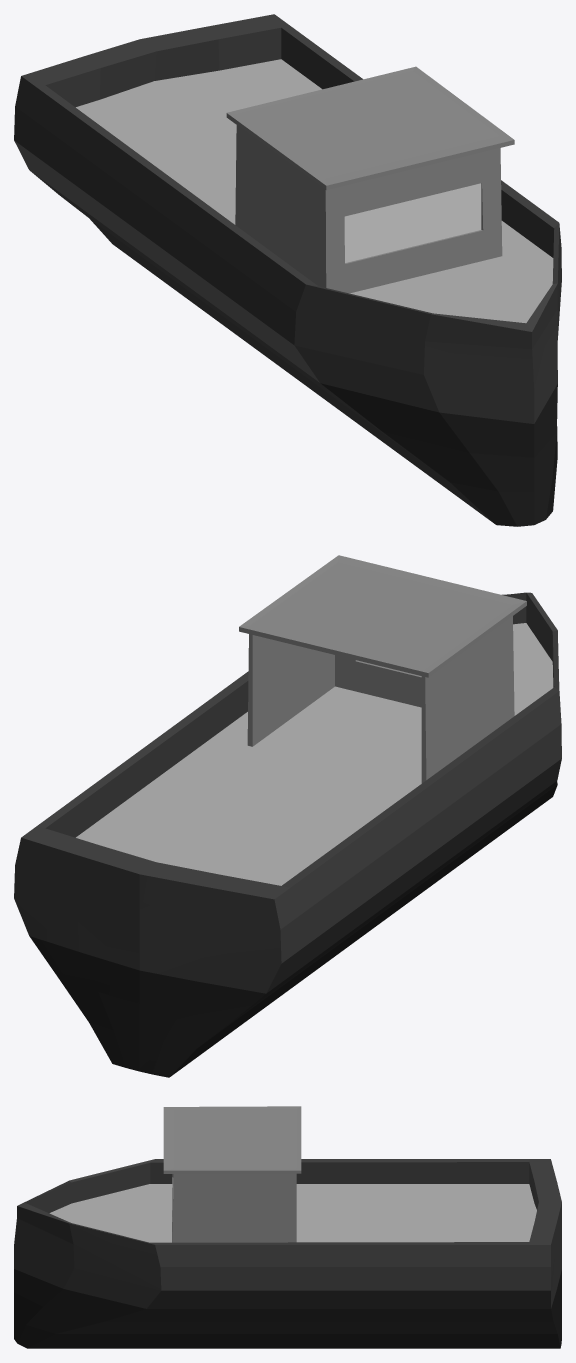
The model's file is 180boot.fbx.
3 views of the same model, one above another, from view 1: azimuth 30°, elevation 25°; view 2: azimuth 150°, elevation 25°; view 3: azimuth 270°, elevation 25° (orthographic). The views are drawn at different scales.
Parts seen in each view (by area): view 1: Cube.001, Cube.002, Plane; view 2: Cube.001, Cube.002; view 3: Cube.001, Cube.002.
Part boxes in pixels (left/top/right/bottom): Cube.001: left=14, top=14, right=561, bottom=526; Cube.002: left=226, top=66, right=514, bottom=293; Plane: left=344, top=183, right=481, bottom=262; Cube.001: left=14, top=592, right=561, bottom=1077; Cube.002: left=239, top=555, right=526, bottom=783; Cube.001: left=14, top=1159, right=561, bottom=1348; Cube.002: left=163, top=1106, right=301, bottom=1242.
Size of the model in its own units: 277 by 283 by 707.
